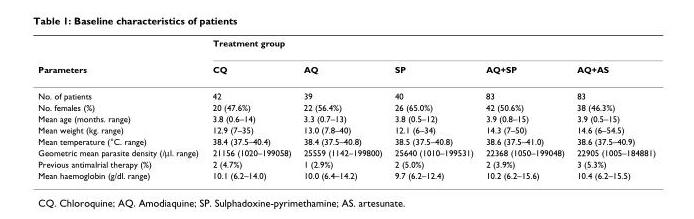table: (37, 37, 654, 180)
table column: (37, 37, 204, 180), (204, 37, 296, 180), (296, 37, 387, 180), (387, 37, 478, 180), (478, 37, 569, 180), (569, 37, 654, 180)
table column header: (37, 37, 654, 82)
table row: (37, 55, 654, 82), (37, 82, 654, 101), (37, 37, 654, 55), (37, 123, 654, 135), (37, 146, 654, 158), (37, 101, 654, 112), (37, 112, 654, 123), (37, 135, 654, 146), (37, 158, 654, 169), (37, 169, 654, 180)
table spanning cell: (204, 37, 654, 55), (37, 37, 204, 82)
